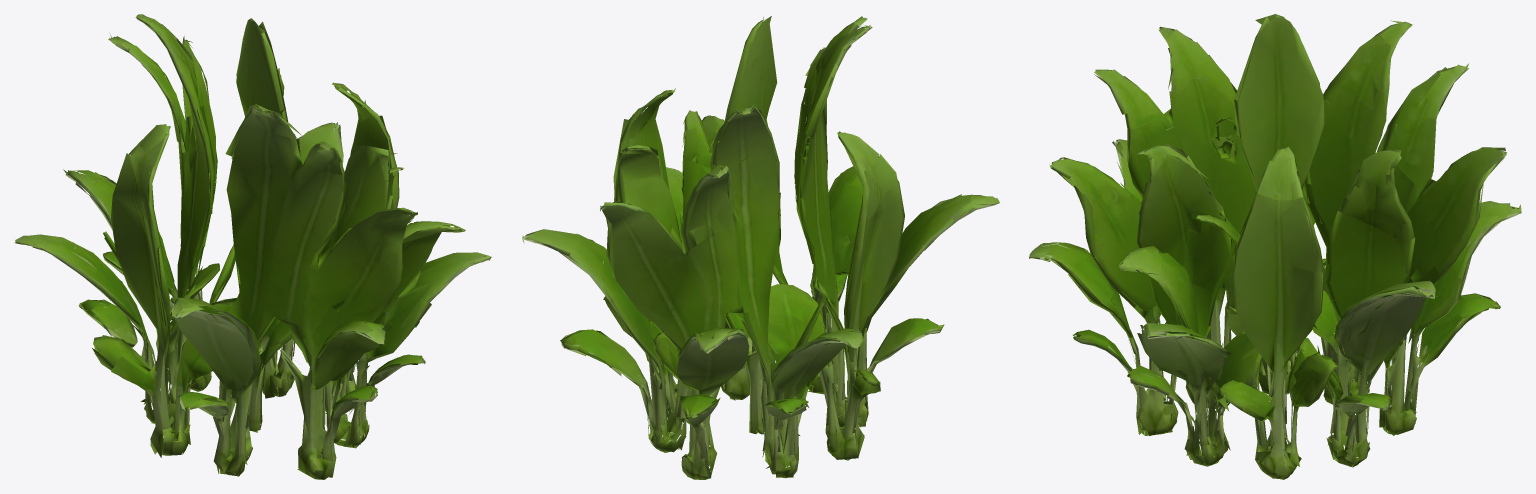
The model's file is sword.glb.
The picture shows the model from 3 angles, left to right: view 1: azimuth 30°, elevation 25°; view 2: azimuth 150°, elevation 25°; view 3: azimuth 270°, elevation 25°; orthographic projection.
Visible parts, largest first — view 1: Vallisneria_tripo_mat_d6ac9413_0; view 2: Vallisneria_tripo_mat_d6ac9413_0; view 3: Vallisneria_tripo_mat_d6ac9413_0.
Part boxes in pixels (x1,y1,x2,y2): Vallisneria_tripo_mat_d6ac9413_0: [14, 14, 491, 479]; Vallisneria_tripo_mat_d6ac9413_0: [522, 16, 999, 479]; Vallisneria_tripo_mat_d6ac9413_0: [1029, 14, 1521, 479].
Bounding box in the file's own units: 0.00044 × 0.000511 × 0.000544.
1 material, 1 textured.
